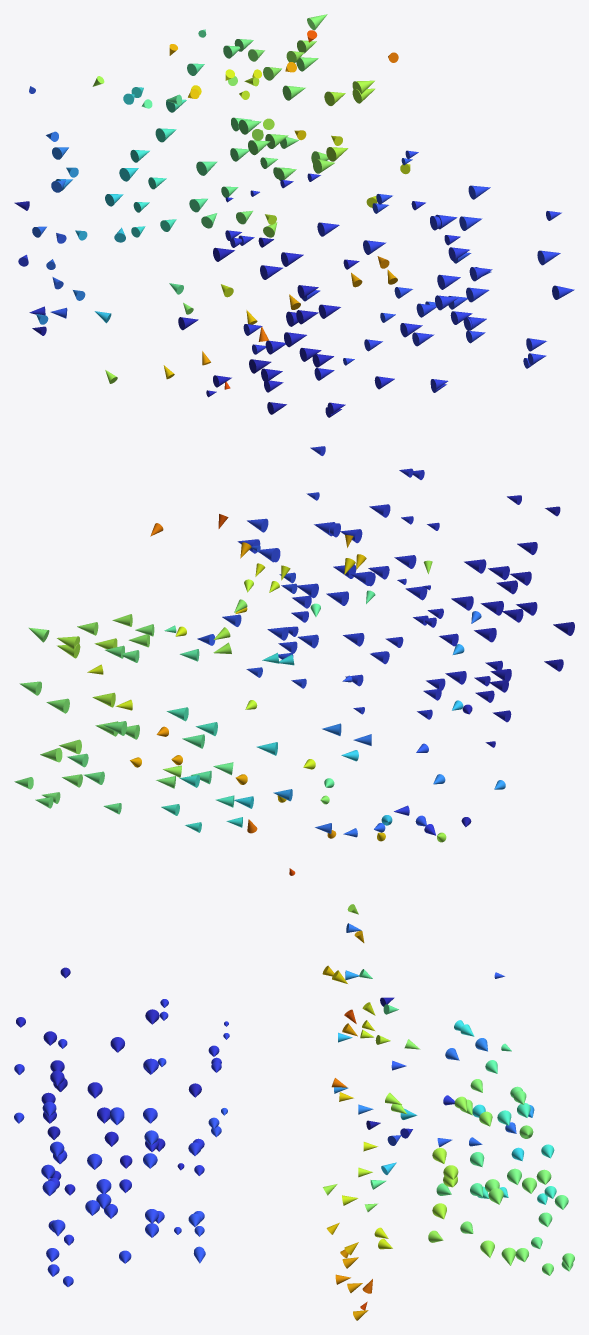
Rendered from LineasCorrienteN2-H2O_mh2-5.58_V-1.glb.
3 renders of one model, top to bottom at view 1: azimuth 30°, elevation 25°; view 2: azimuth 150°, elevation 25°; view 3: azimuth 270°, elevation 25°, orthographic. The views are drawn at different scales.
Size of the model in its own units: 0.000955 by 0.000823 by 0.00119.
2 materials, 2 textured.
